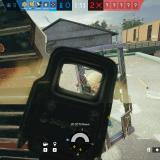Character: (86, 70, 102, 95)
Head: (87, 72, 102, 92)
